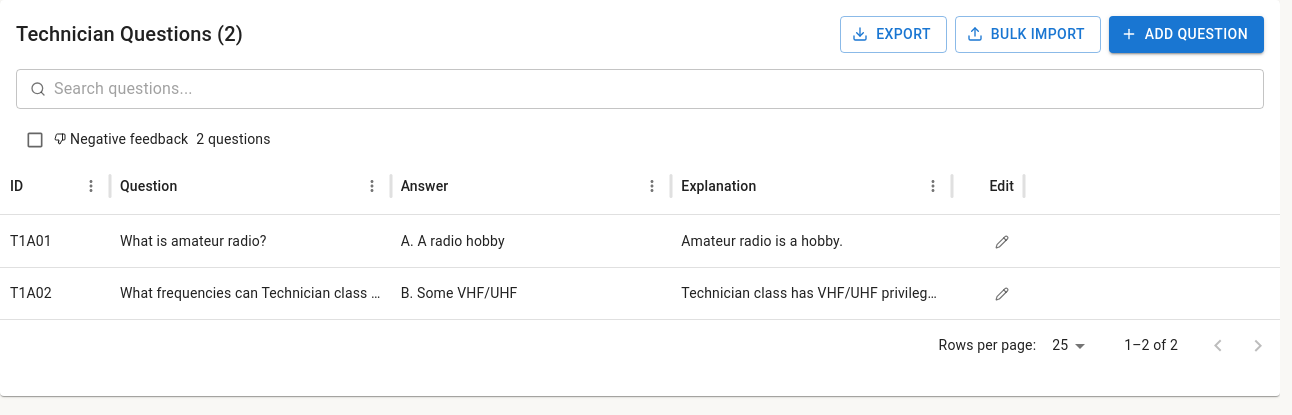
AdminQuestions › Search Functionality › should filter questions by display name
expect the text "T1A01" is shown: met, box [10, 232, 52, 248]
In the field with placeholder "Search questions...": (659,88) [54, 68, 1264, 108], type "T1A01"
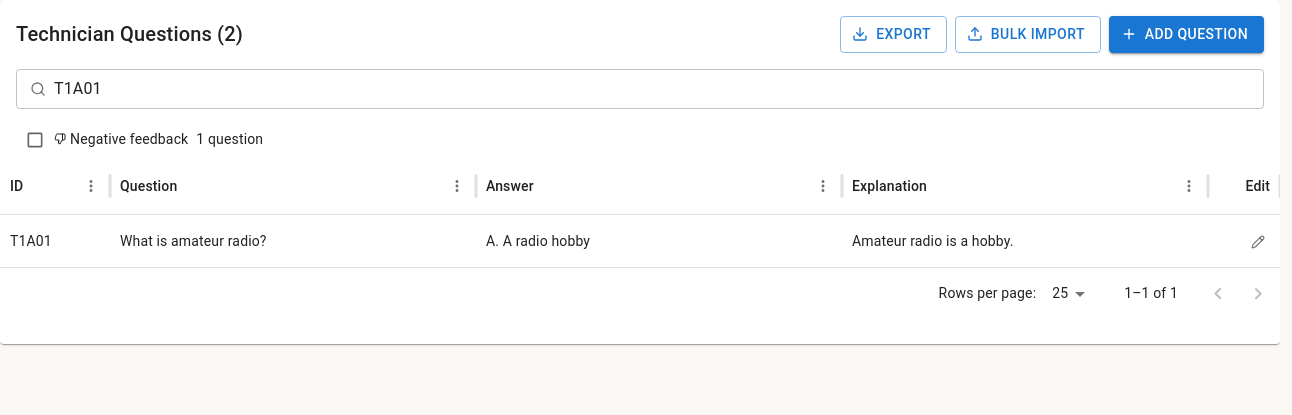
expect the text "T1A01" is shown: met, box [10, 232, 52, 248]
expect the text "T1A02" is gone: met
